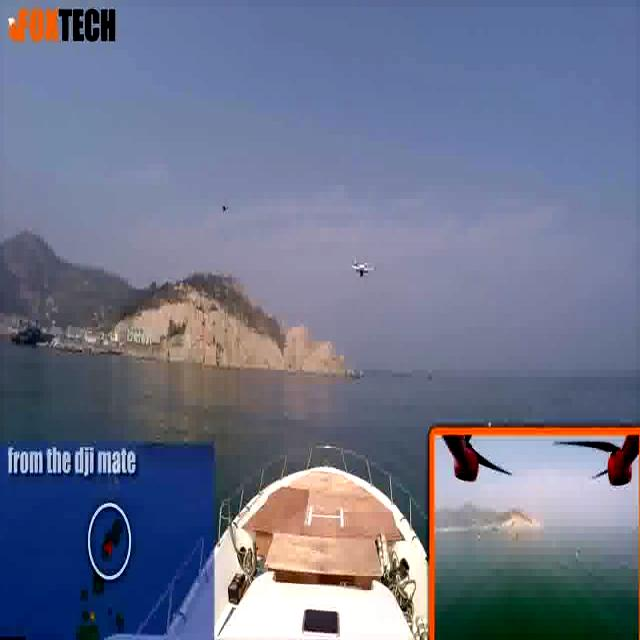drone: (348, 248, 379, 285)
